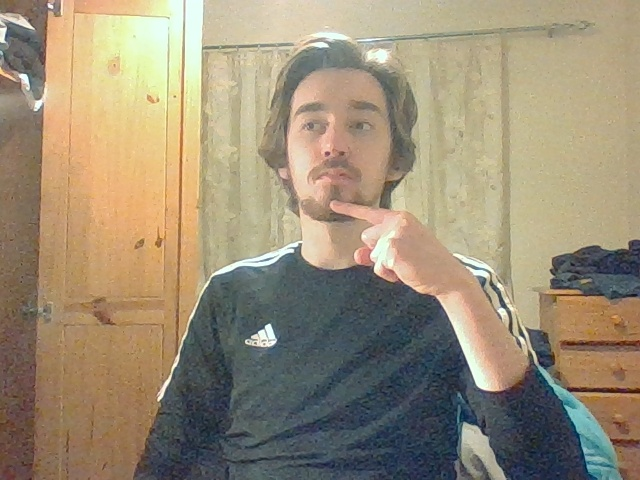son: (328, 199, 418, 281)
